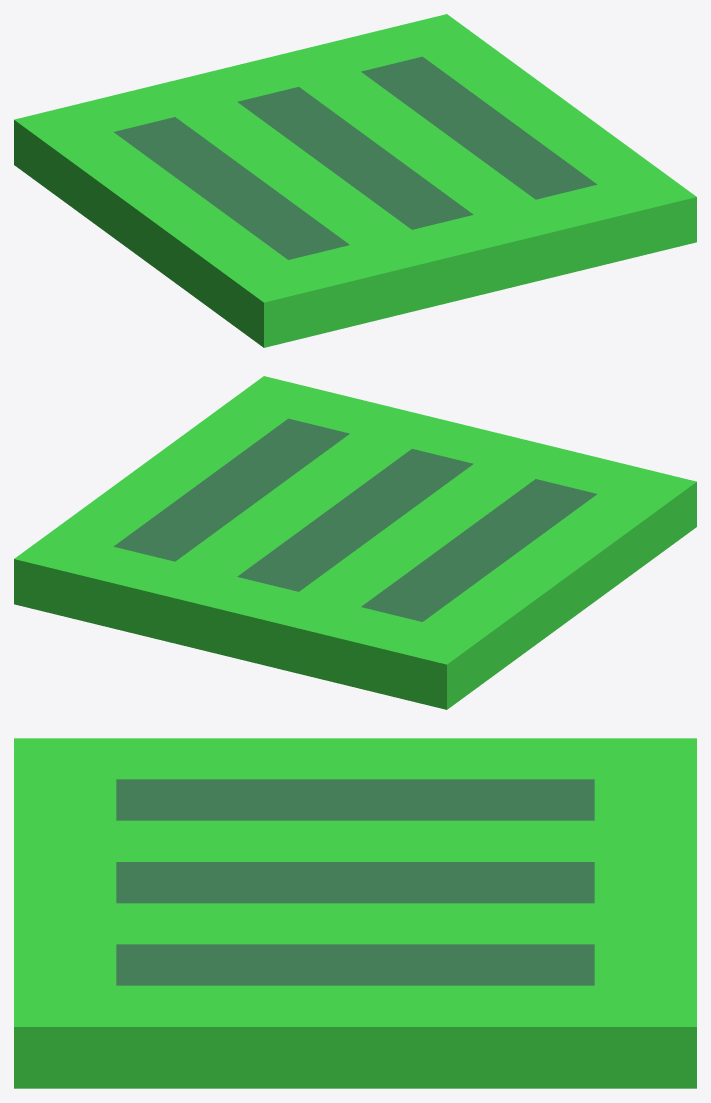
Rendered from coffeefiller_bottom.fbx.
The picture shows the model from 3 angles, top to bottom: view 1: azimuth 30°, elevation 25°; view 2: azimuth 150°, elevation 25°; view 3: azimuth 270°, elevation 25°; orthographic projection. The views are drawn at different scales.
Visible parts, largest first — view 1: Plane; view 2: Plane; view 3: Plane.
Boxes of the visible parts, x1,y1,x2,y2 form: Plane: (14, 14, 696, 347); Plane: (14, 376, 696, 709); Plane: (14, 738, 696, 1088).
Bounding box in the file's own units: 200 × 20 × 200.
